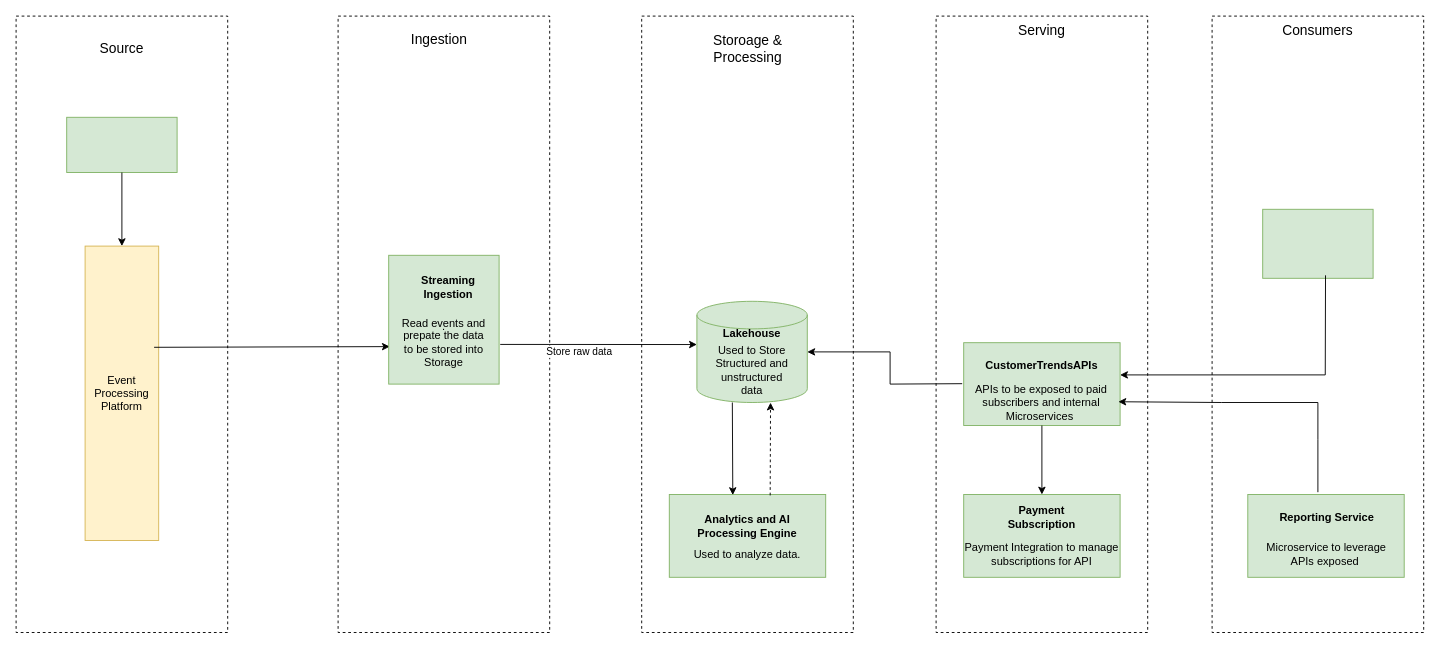
This 1440x649 diagram has some shape labels left out. The centre of each missing label's shape, as x and y in pixels:
DataPreparation Microservice: point 121,144
Paid API Subscribers: point 1317,243
